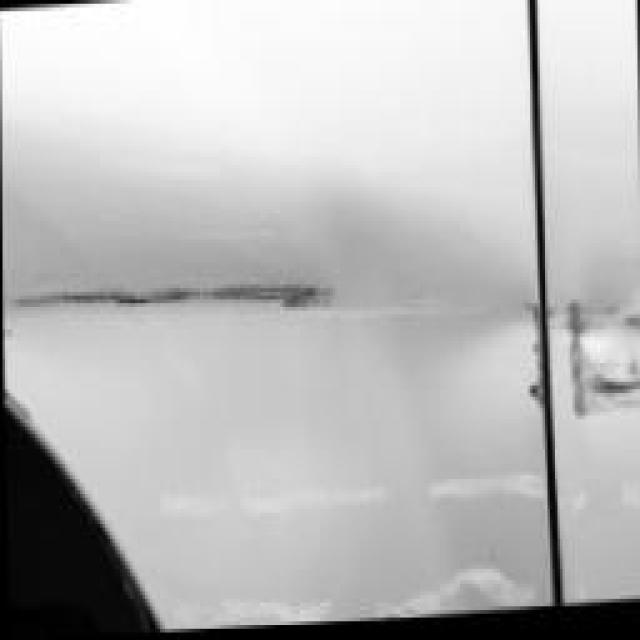Door: (538, 273, 640, 442)
Fender: (10, 180, 540, 468)
